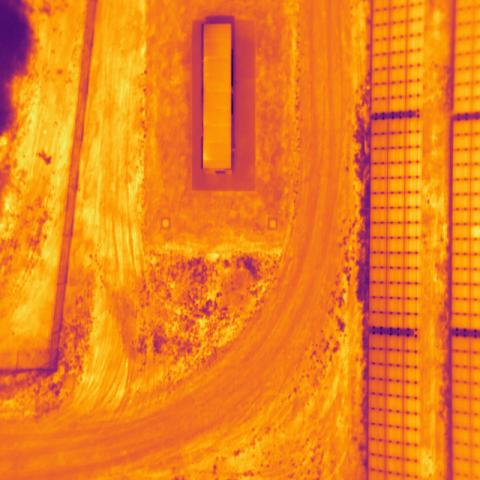fault: (471, 224, 480, 239)
